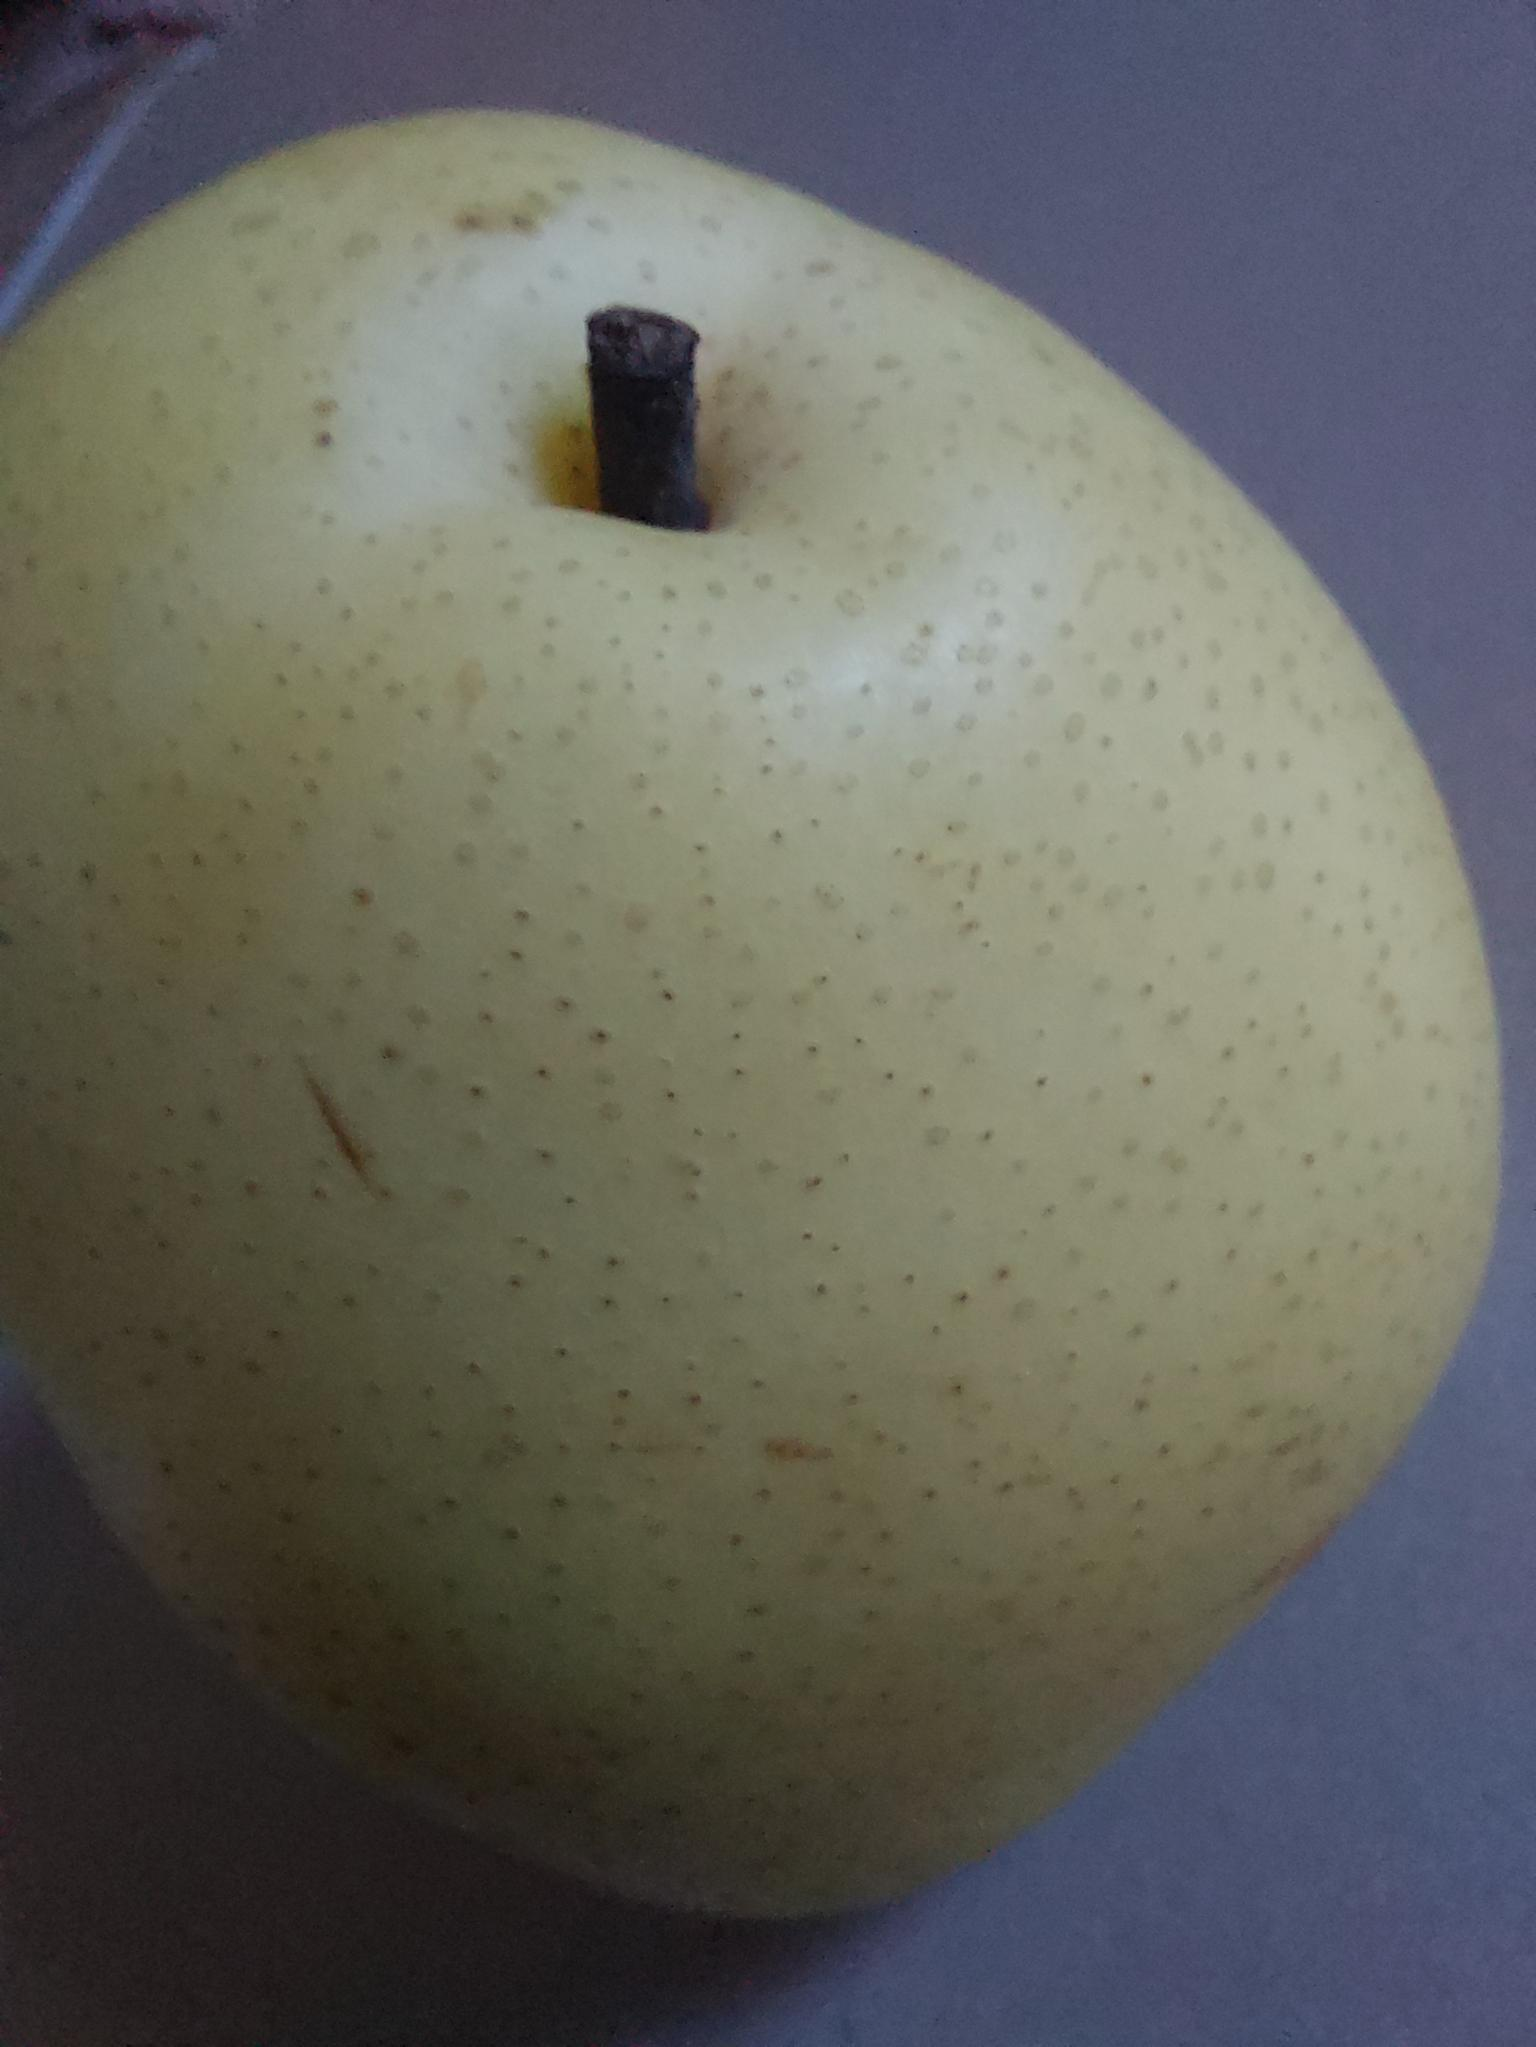Good Pear: (0, 89, 1504, 1926)
